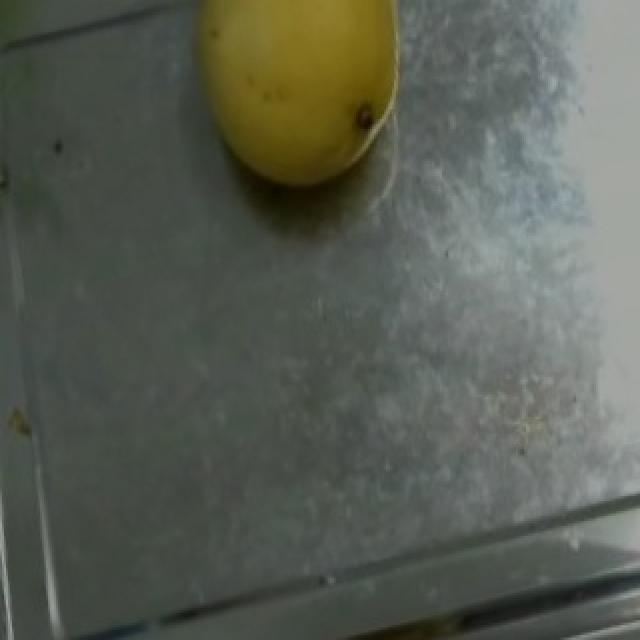fruit: (160, 0, 446, 216)
